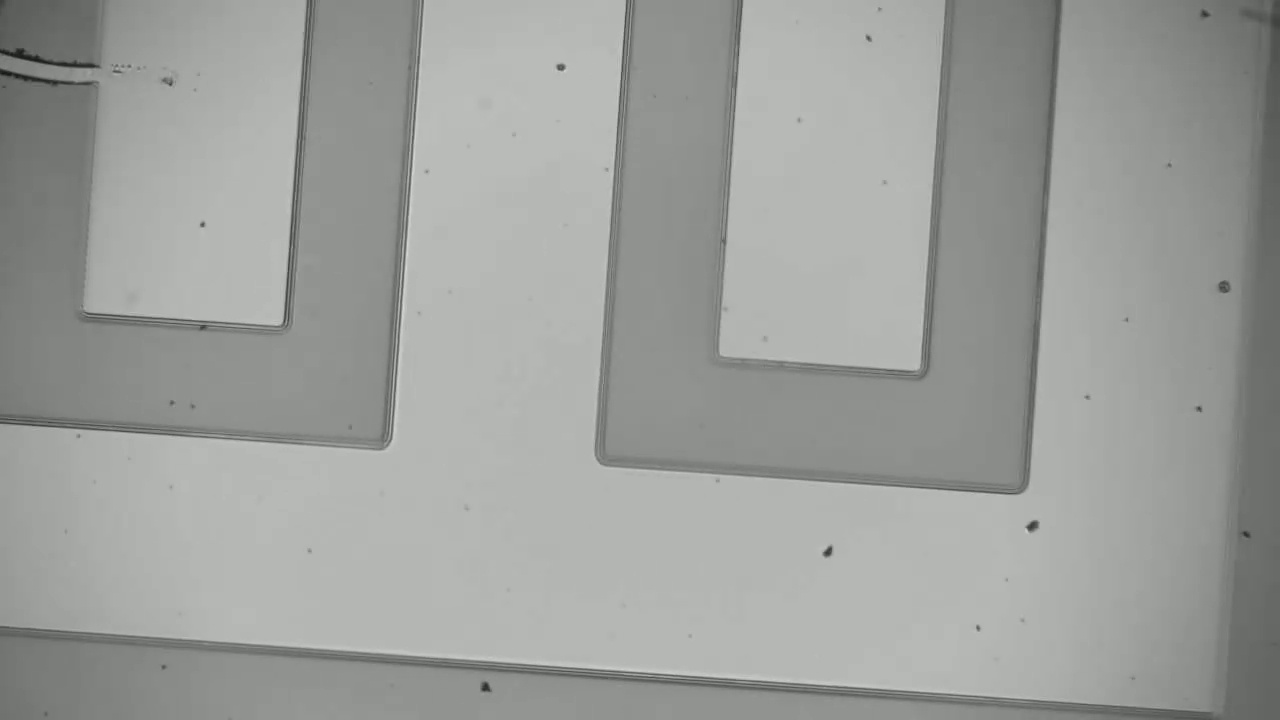Short_circuit: (0, 27, 129, 110)
